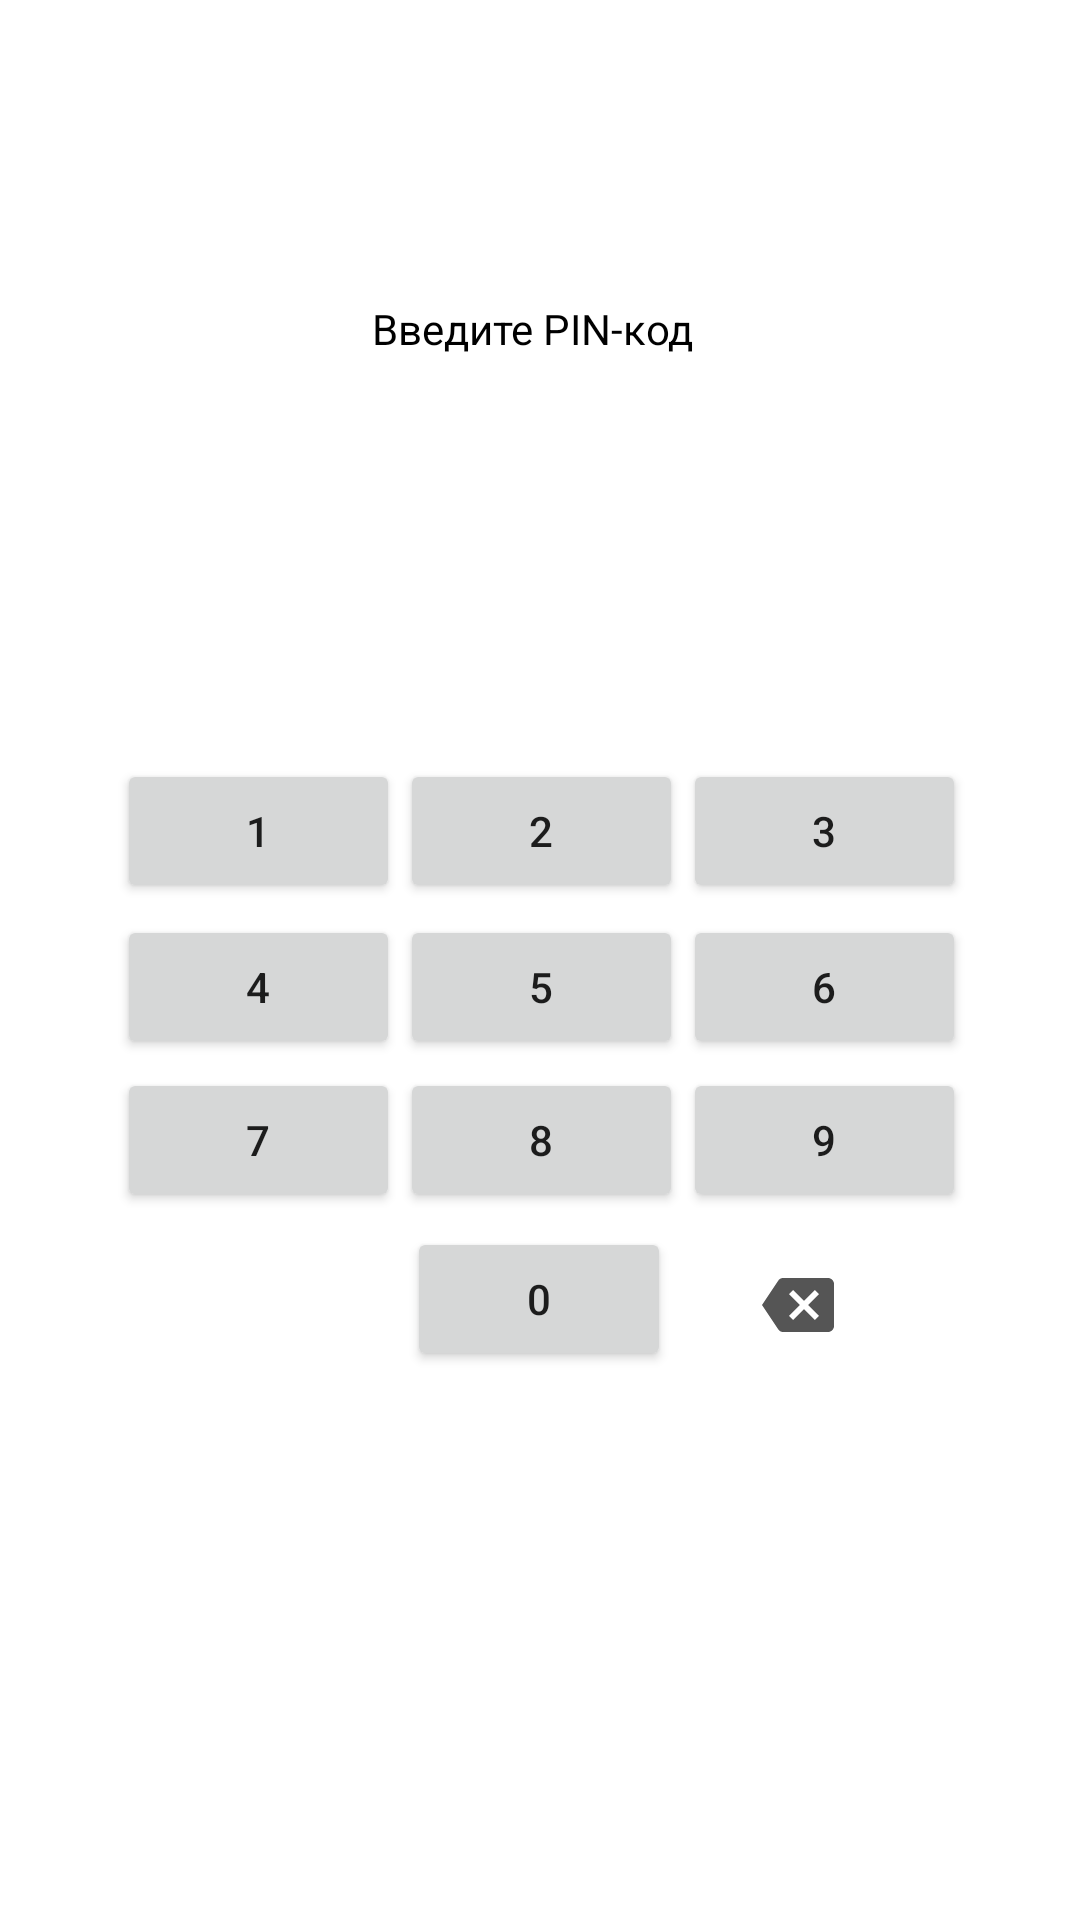

Named icons in this screenshot (1080x1920) and their centers, [x,y]:
backspace: [798,1305]
